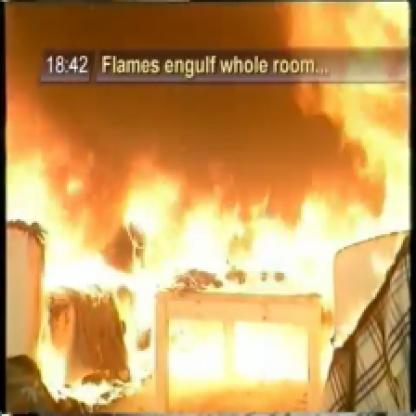fire: (112, 155, 382, 406), (10, 38, 142, 413), (254, 0, 416, 272)
